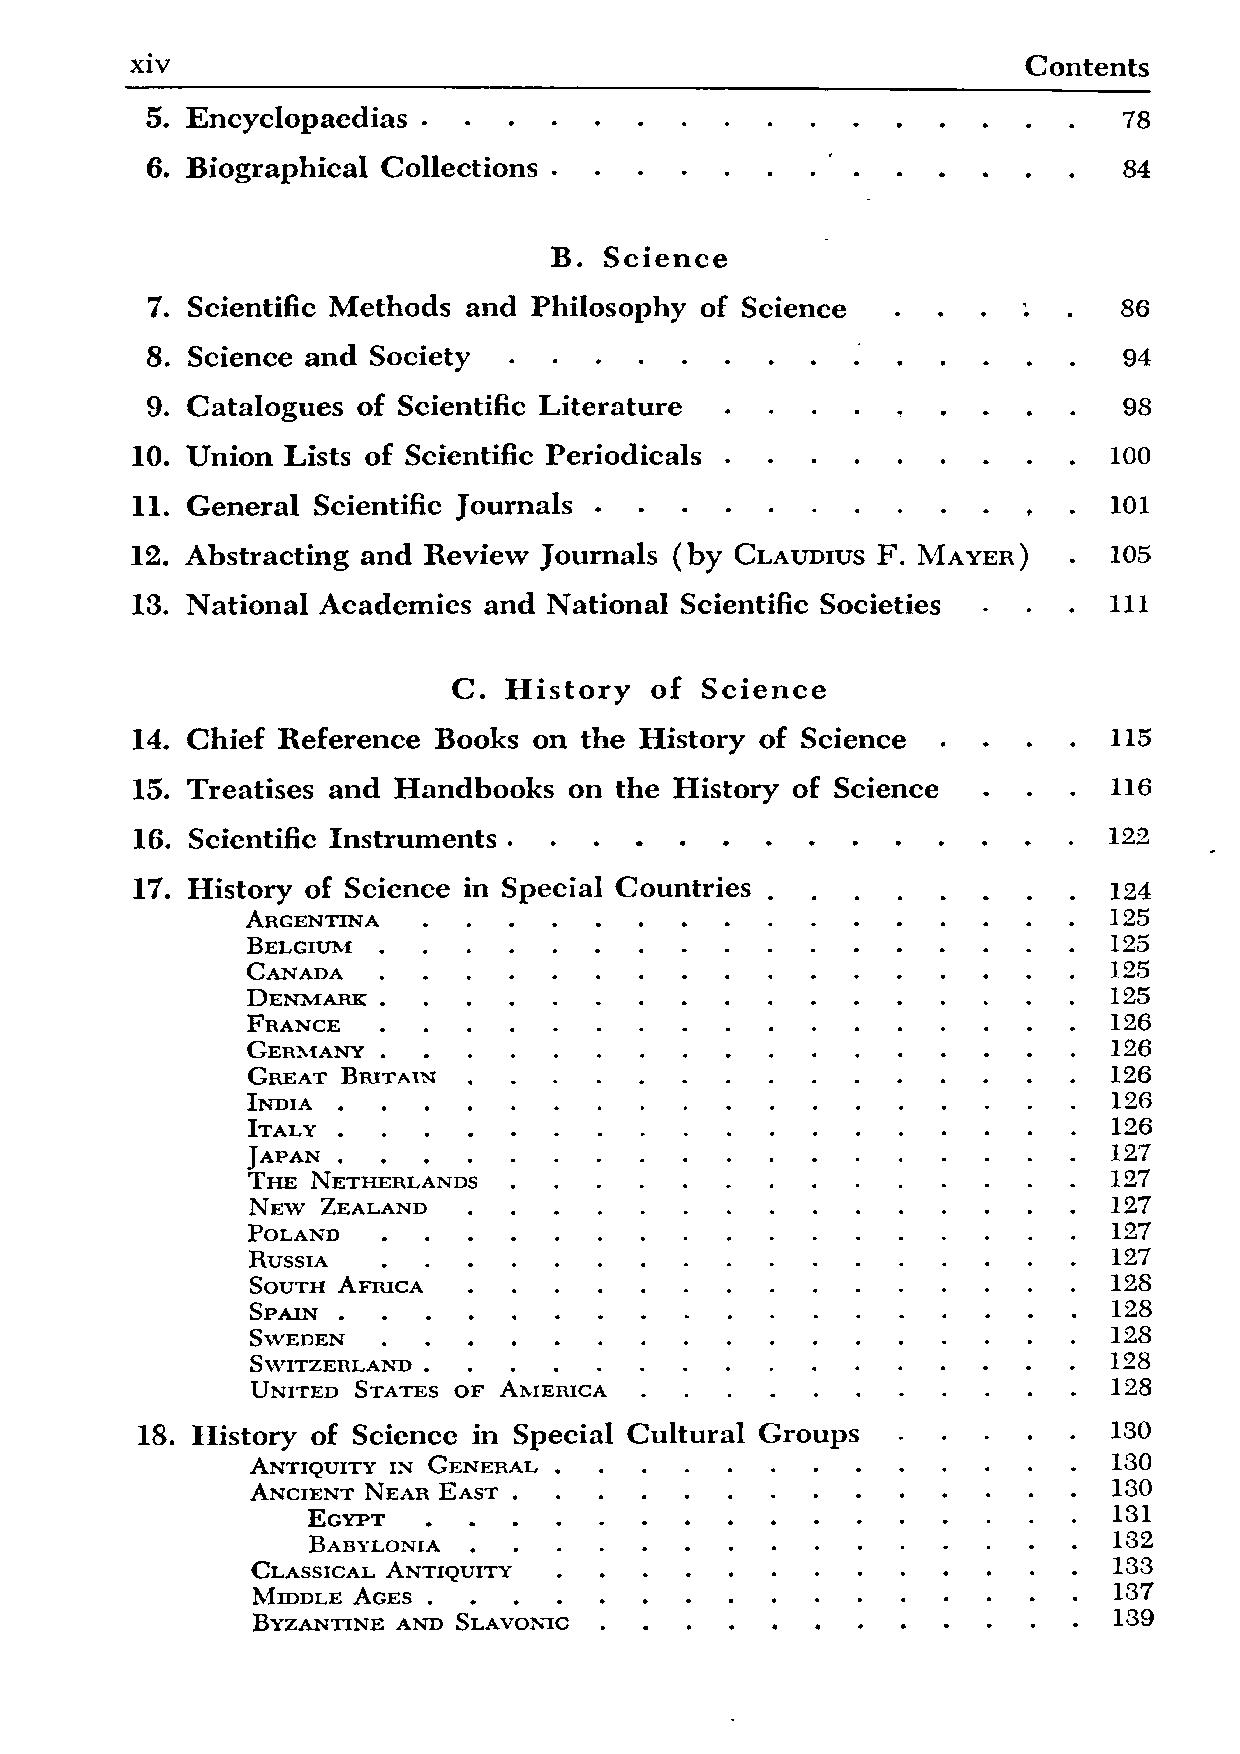TOC_chapter: (122, 539, 1029, 576), (125, 589, 943, 620), (123, 774, 942, 804), (121, 725, 909, 754), (140, 291, 849, 322), (132, 1418, 863, 1448), (118, 872, 756, 900), (439, 660, 829, 705), (123, 442, 705, 470), (119, 488, 576, 523), (138, 391, 683, 419), (138, 153, 539, 181), (127, 823, 499, 849), (140, 342, 472, 370), (542, 235, 735, 280), (137, 101, 409, 132), (250, 1378, 609, 1400), (254, 1455, 539, 1479), (247, 1557, 514, 1582), (250, 1613, 569, 1633), (250, 1480, 501, 1504), (246, 1172, 478, 1192), (244, 1063, 437, 1087), (250, 1584, 416, 1610), (246, 1274, 425, 1296), (247, 1194, 429, 1216), (247, 1353, 413, 1376), (307, 1531, 446, 1555), (244, 909, 380, 930), (246, 985, 369, 1008), (244, 1037, 365, 1059), (244, 1220, 341, 1244), (243, 935, 353, 956), (246, 961, 345, 982), (244, 1013, 341, 1035), (250, 1326, 344, 1347), (305, 1506, 386, 1530), (246, 1142, 319, 1168), (244, 1088, 314, 1115), (246, 1248, 329, 1270), (246, 1117, 317, 1141), (247, 1299, 319, 1322)
TOC_pagenumber: (1104, 531, 1157, 570), (1104, 816, 1157, 849), (1104, 439, 1157, 471), (1102, 488, 1154, 518), (1117, 98, 1157, 132), (1114, 290, 1159, 319), (1108, 770, 1157, 797), (1107, 721, 1151, 749), (1104, 878, 1153, 903), (1107, 1414, 1151, 1441), (1106, 1447, 1151, 1472), (1121, 150, 1155, 183), (1107, 586, 1150, 612), (1108, 930, 1151, 954), (1108, 1347, 1151, 1372), (1121, 393, 1157, 421), (1108, 905, 1147, 930), (1121, 340, 1157, 366), (1107, 1325, 1151, 1346), (1111, 1606, 1155, 1628), (1108, 1271, 1151, 1292), (1108, 1298, 1151, 1319), (1110, 1555, 1155, 1576), (1114, 1500, 1151, 1525), (1110, 1088, 1151, 1110), (1114, 1527, 1155, 1549), (1111, 1192, 1150, 1215), (1110, 1011, 1150, 1032), (1108, 1141, 1149, 1162), (1111, 1245, 1151, 1267), (1111, 1582, 1153, 1602), (1110, 957, 1149, 978), (1108, 1037, 1151, 1056), (1108, 1478, 1151, 1496), (1110, 982, 1149, 1002), (1110, 1117, 1151, 1135), (1107, 1169, 1149, 1188), (1108, 1221, 1150, 1240), (1110, 1377, 1153, 1394), (1108, 1062, 1151, 1078)
chapter: (1019, 50, 1154, 78)
